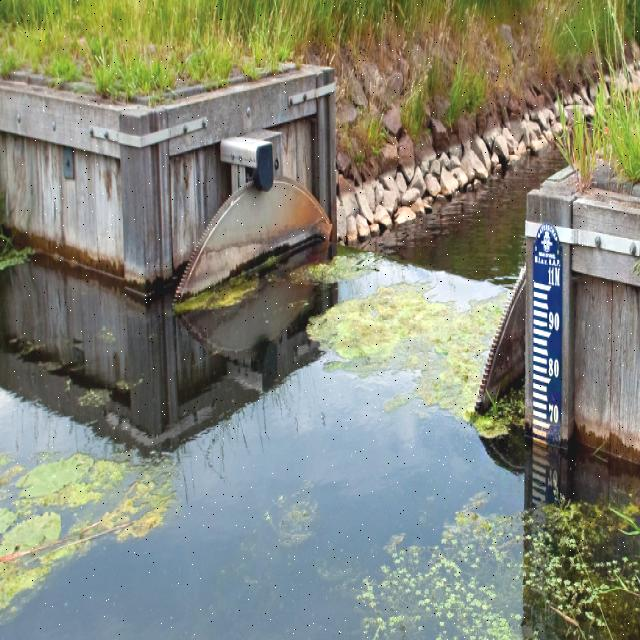staff: (535, 247, 561, 458)
